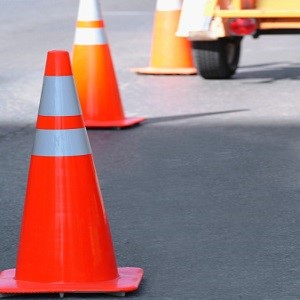traffic cone: (1, 49, 142, 295), (46, 1, 146, 128), (133, 1, 204, 74)
